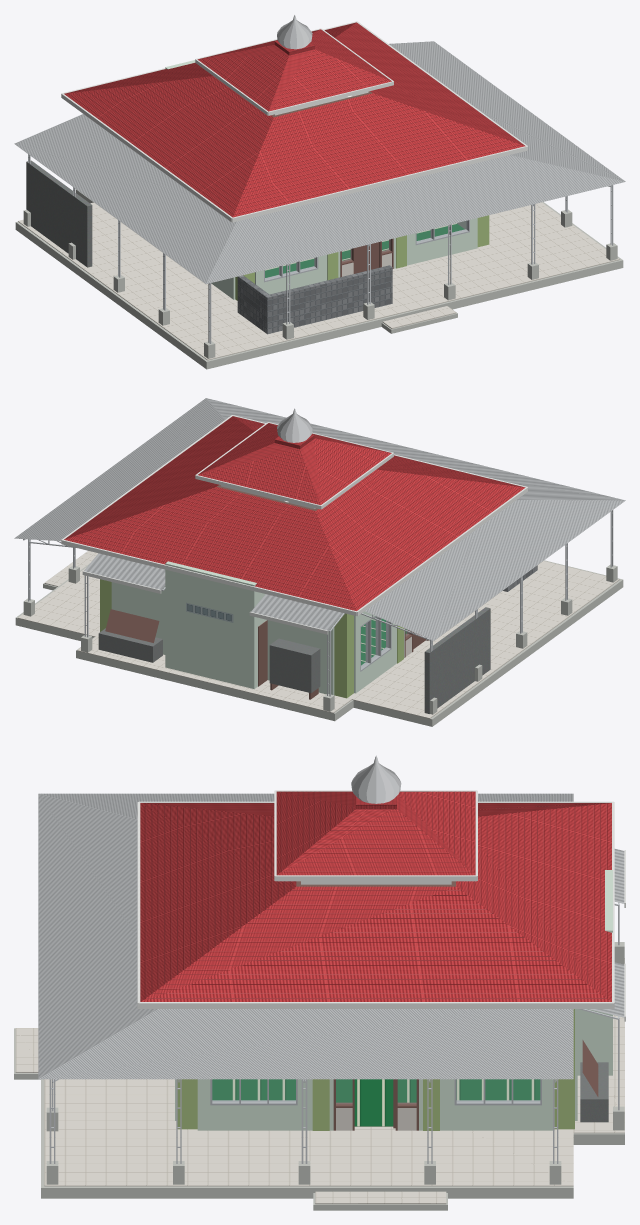
The model's file is mushola.glb.
The picture shows the model from 3 angles, top to bottom: view 1: azimuth 30°, elevation 25°; view 2: azimuth 150°, elevation 25°; view 3: azimuth 270°, elevation 25°; orthographic projection. The views are drawn at different scales.
Visible parts, largest first — view 1: Atap_Utama_2_Tingkat_Merah, Atap_Kanopi_Spandek_Silver, Lantai_Serambi_Keramik_Krem, Fondasi_Beton_Mushola, Dinding_Wudhu_Mozaik_Abu, Lisplang_Leher_Dan_Toa_Putih, Dinding_Semen_Dan_Bak_Abu, Dinding_Hijau_Mint_Mushola, Rangka_Baja_Ringan_Galvalum, Kusen_Dan_Pintu_Kayu_Coklat, Pilaster_Hijau_Zaitun, Kaca_Jendela_Mushola (+3 smaller); view 2: Atap_Utama_2_Tingkat_Merah, Atap_Kanopi_Spandek_Silver, Lantai_Serambi_Keramik_Krem, Dinding_Hijau_Mint_Mushola, Dinding_Semen_Dan_Bak_Abu, Fondasi_Beton_Mushola, Lisplang_Leher_Dan_Toa_Putih, Kusen_Dan_Pintu_Kayu_Coklat, Pilaster_Hijau_Zaitun, Rangka_Baja_Ringan_Galvalum, Kusen_Aluminium_Silver_Jendela, Kubah_Silver_Mushola (+2 smaller); view 3: Atap_Utama_2_Tingkat_Merah, Atap_Kanopi_Spandek_Silver, Lantai_Serambi_Keramik_Krem, Fondasi_Beton_Mushola, Dinding_Hijau_Mint_Mushola, Lisplang_Leher_Dan_Toa_Putih, Karpet_Shalat_Hijau_Dalam, Kaca_Jendela_Mushola, Pilaster_Hijau_Zaitun, Rangka_Baja_Ringan_Galvalum, Kusen_Dan_Pintu_Kayu_Coklat, Kubah_Silver_Mushola (+3 smaller).
Boxes of the visible parts, left/top/right/bottom form: Atap_Utama_2_Tingkat_Merah: left=64, top=22, right=525, bottom=217; Atap_Kanopi_Spandek_Silver: left=14, top=41, right=625, bottom=284; Lantai_Serambi_Keramik_Krem: left=18, top=202, right=619, bottom=360; Fondasi_Beton_Mushola: left=15, top=189, right=623, bottom=369; Dinding_Wudhu_Mozaik_Abu: left=237, top=265, right=392, bottom=334; Lisplang_Leher_Dan_Toa_Putih: left=61, top=21, right=527, bottom=222; Dinding_Semen_Dan_Bak_Abu: left=26, top=160, right=92, bottom=267; Dinding_Hijau_Mint_Mushola: left=165, top=60, right=477, bottom=299; Rangka_Baja_Ringan_Galvalum: left=28, top=154, right=613, bottom=343; Kusen_Dan_Pintu_Kayu_Coklat: left=271, top=91, right=393, bottom=277; Pilaster_Hijau_Zaitun: left=235, top=215, right=489, bottom=300; Kaca_Jendela_Mushola: left=265, top=221, right=466, bottom=278; Atap_Utama_2_Tingkat_Merah: left=64, top=416, right=525, bottom=610; Atap_Kanopi_Spandek_Silver: left=14, top=398, right=625, bottom=640; Lantai_Serambi_Keramik_Krem: left=18, top=551, right=619, bottom=718; Dinding_Hijau_Mint_Mushola: left=111, top=561, right=404, bottom=694; Dinding_Semen_Dan_Bak_Abu: left=98, top=607, right=490, bottom=713; Fondasi_Beton_Mushola: left=15, top=552, right=623, bottom=726; Lisplang_Leher_Dan_Toa_Putih: left=61, top=415, right=527, bottom=634; Kusen_Dan_Pintu_Kayu_Coklat: left=105, top=485, right=428, bottom=699; Pilaster_Hijau_Zaitun: left=100, top=579, right=403, bottom=698; Rangka_Baja_Ringan_Galvalum: left=23, top=510, right=613, bottom=696; Kusen_Aluminium_Silver_Jendela: left=360, top=616, right=391, bottom=671; Kubah_Silver_Mushola: left=277, top=408, right=312, bottom=442; Atap_Utama_2_Tingkat_Merah: left=140, top=791, right=611, bottom=1001; Atap_Kanopi_Spandek_Silver: left=38, top=793, right=624, bottom=1079; Lantai_Serambi_Keramik_Krem: left=15, top=958, right=624, bottom=1204; Fondasi_Beton_Mushola: left=14, top=942, right=624, bottom=1210; Dinding_Hijau_Mint_Mushola: left=175, top=870, right=612, bottom=1130; Lisplang_Leher_Dan_Toa_Putih: left=137, top=790, right=625, bottom=1021; Karpet_Shalat_Hijau_Dalam: left=212, top=1079, right=540, bottom=1126; Kaca_Jendela_Mushola: left=212, top=1079, right=539, bottom=1103; Pilaster_Hijau_Zaitun: left=177, top=1009, right=574, bottom=1130; Rangka_Baja_Ringan_Galvalum: left=49, top=902, right=619, bottom=1163; Kusen_Dan_Pintu_Kayu_Coklat: left=296, top=881, right=598, bottom=1130; Kubah_Silver_Mushola: left=351, top=755, right=401, bottom=803.
Bounding box in the file's own units: 15.66 × 7.42 × 13.65.
Materials: 17 (7 with a texture image).
